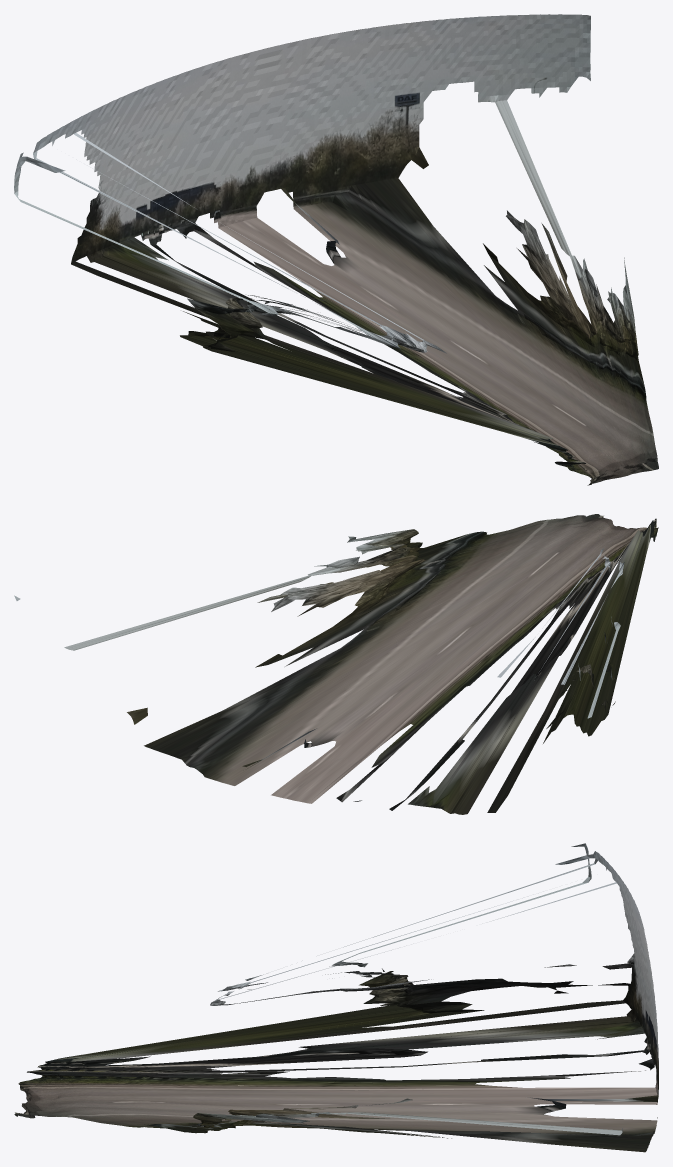
3 renders of one model, top to bottom at view 1: azimuth 30°, elevation 25°; view 2: azimuth 150°, elevation 25°; view 3: azimuth 270°, elevation 25°, orthographic. The views are drawn at different scales.
Parts seen in each view (by area): view 1: defaultobject; view 2: defaultobject; view 3: defaultobject.
Part boxes in pixels (bbox=[...]): defaultobject: bbox=[14, 14, 658, 485]; defaultobject: bbox=[14, 514, 658, 814]; defaultobject: bbox=[14, 843, 658, 1152].
Size of the model in its own units: 40.86 by 11.78 by 44.8.
1 material, 1 textured.
